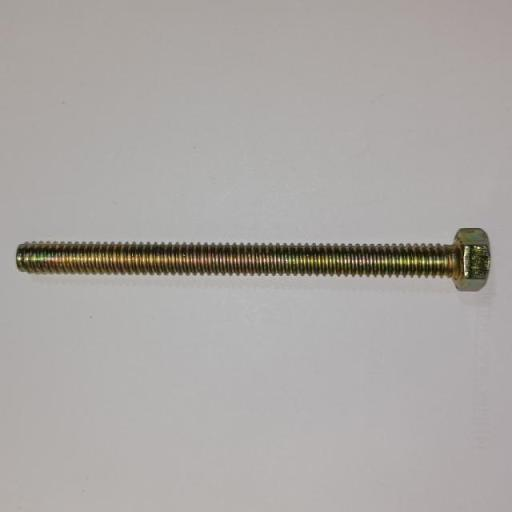Bolt: (15, 228, 491, 293)
